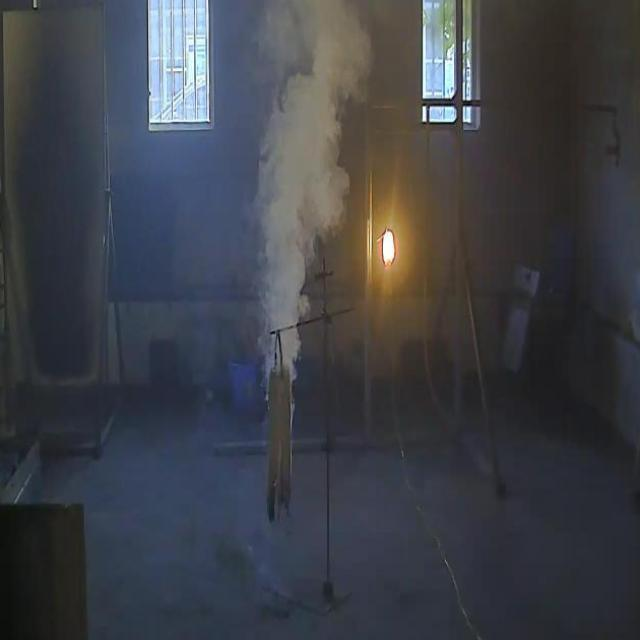fire: (260, 0, 371, 362)
